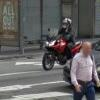Motorcycle: (41, 25, 79, 68)
